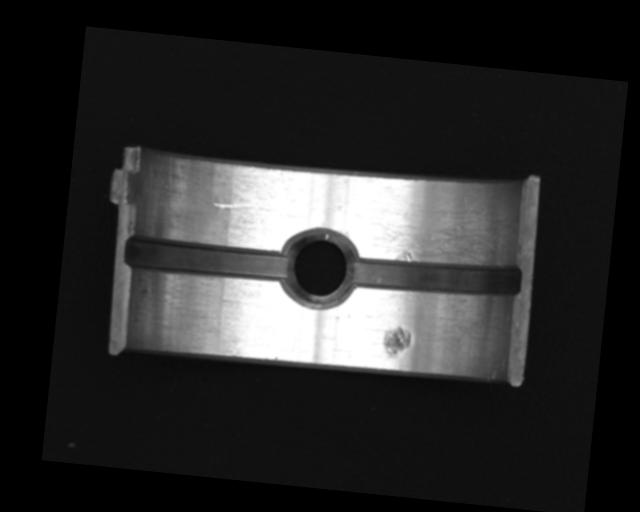bruise: (380, 324, 413, 360)
gap: (346, 247, 523, 305), (123, 231, 293, 285)
hole: (279, 225, 355, 311)
nick: (212, 197, 270, 213)
scratch: (351, 190, 514, 274)
